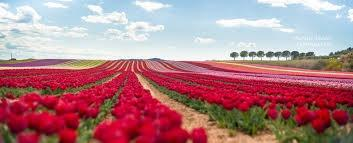field: (0, 60, 352, 141)
